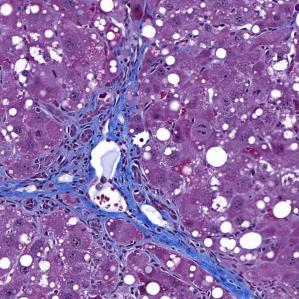fibrosis: (27, 168, 188, 243), (64, 91, 141, 196)
